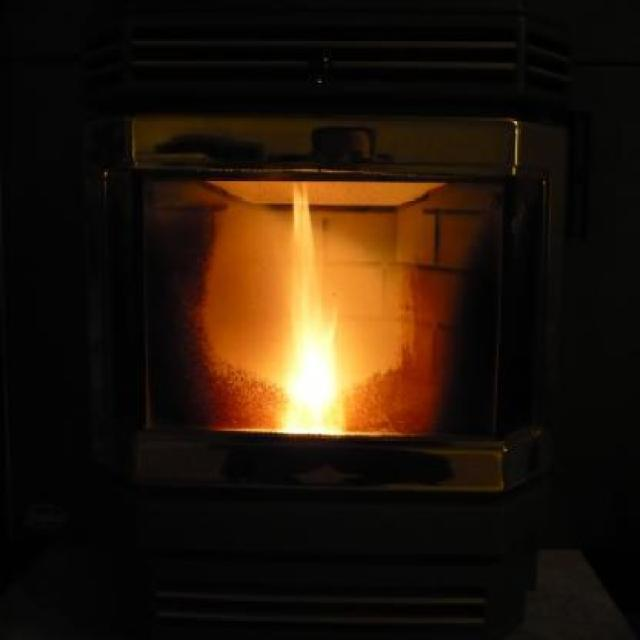Fire: (271, 190, 367, 436), (245, 384, 288, 430), (368, 380, 398, 434)
